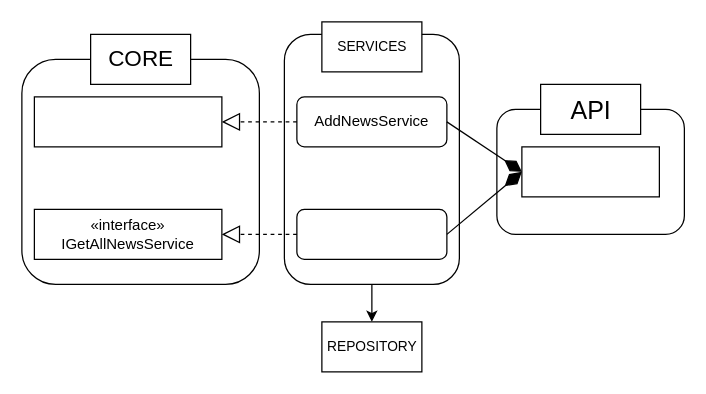
This 706x394 diagram has some shape labels left out. The shapes that lost their labels are listed below. From the top down, each one's box as (x1, y1, x2, y2) in pixels, then its label:
(33, 96, 222, 147): «interface» IAddNewsService
(521, 146, 659, 197): NewsController
(296, 208, 447, 259): GetAllNewsService
